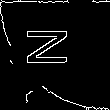N_E: (30, 35, 80, 75)
